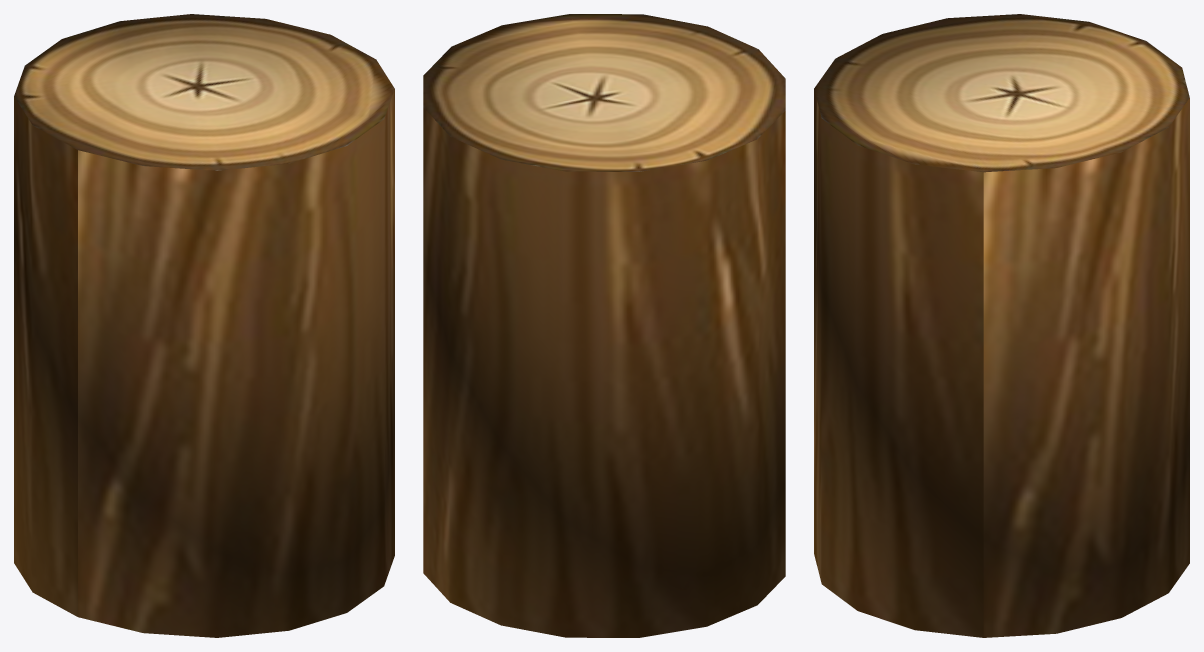
Rendered from Chair1.fbx.
3 renders of one model, left to right at view 1: azimuth 30°, elevation 25°; view 2: azimuth 150°, elevation 25°; view 3: azimuth 270°, elevation 25°, orthographic.
Parts seen in each view (by area): view 1: Chair1; view 2: Chair1; view 3: Chair1.
Boxes of the visible parts, x1,y1,x2,y2 form: Chair1: (14, 14, 394, 637); Chair1: (423, 14, 785, 637); Chair1: (814, 14, 1189, 637).
Size of the model in its own units: 404 by 405 by 554.
